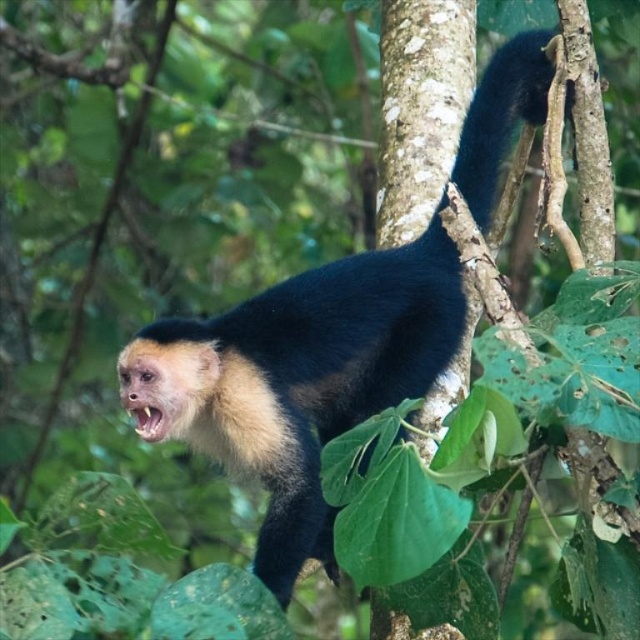Monkey: (112, 29, 571, 616)
